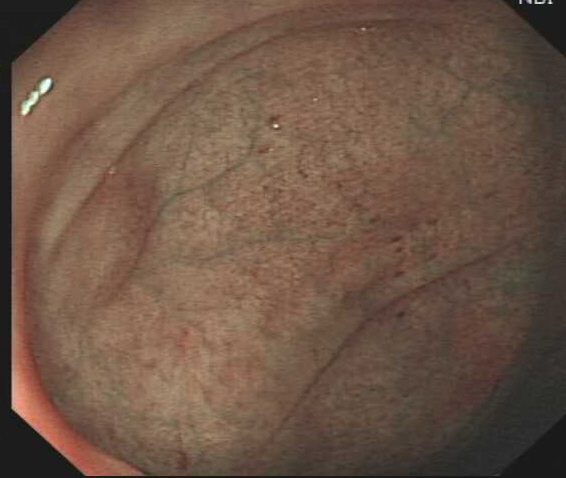others: (70, 168, 155, 307)
